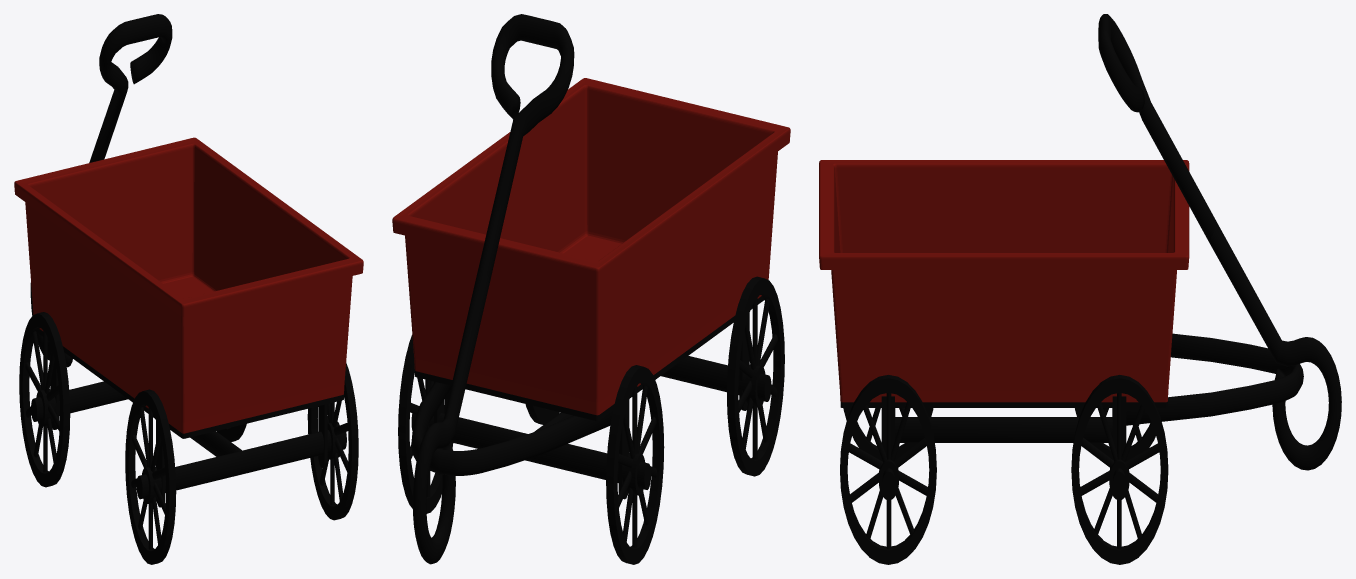
Rendered from wagon.glb.
3 views of the same model, side by side, from view 1: azimuth 30°, elevation 25°; view 2: azimuth 150°, elevation 25°; view 3: azimuth 270°, elevation 25° (orthographic). The views are drawn at different scales.
Parts seen in each view (by area): view 1: Plane.002, Cylinder.001, Circle.001, Plane.003, Cube.006; view 2: Plane.002, Cylinder.001, Circle.001, Cube.007, Plane.003; view 3: Plane.002, Cylinder.001, Circle.001, Cube.007, Plane.003.
Part boxes in pixels (x1,y1,x2,y2): Plane.002: (14, 137, 363, 433); Cylinder.001: (19, 312, 358, 564); Circle.001: (30, 14, 172, 360); Plane.003: (37, 329, 343, 438); Cube.006: (318, 404, 327, 467); Plane.002: (392, 78, 790, 415); Cylinder.001: (398, 276, 784, 564); Circle.001: (412, 14, 574, 564); Cube.007: (411, 382, 612, 475); Plane.003: (415, 296, 764, 421); Plane.002: (819, 160, 1189, 402); Cylinder.001: (840, 375, 1168, 564); Circle.001: (1098, 14, 1341, 470); Cube.007: (1112, 333, 1303, 425); Plane.003: (840, 402, 1167, 407).
Size of the model in its own units: 13.89 by 29.21 by 28.17.
